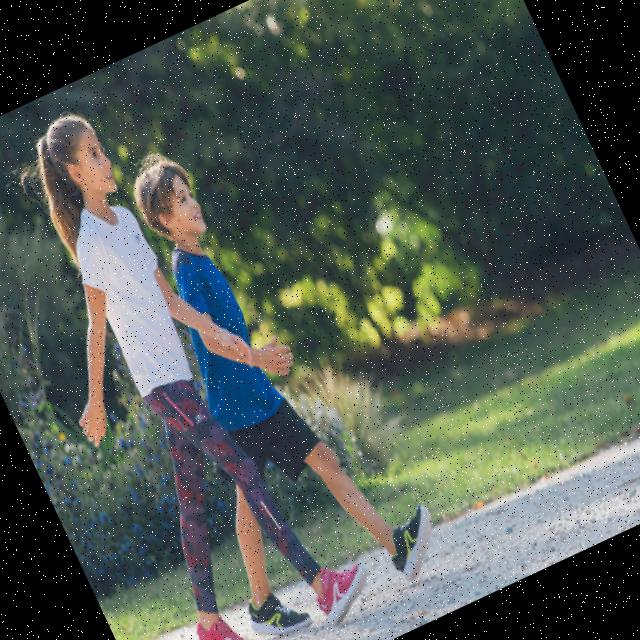Person: (0, 80, 383, 640), (58, 119, 455, 640)
